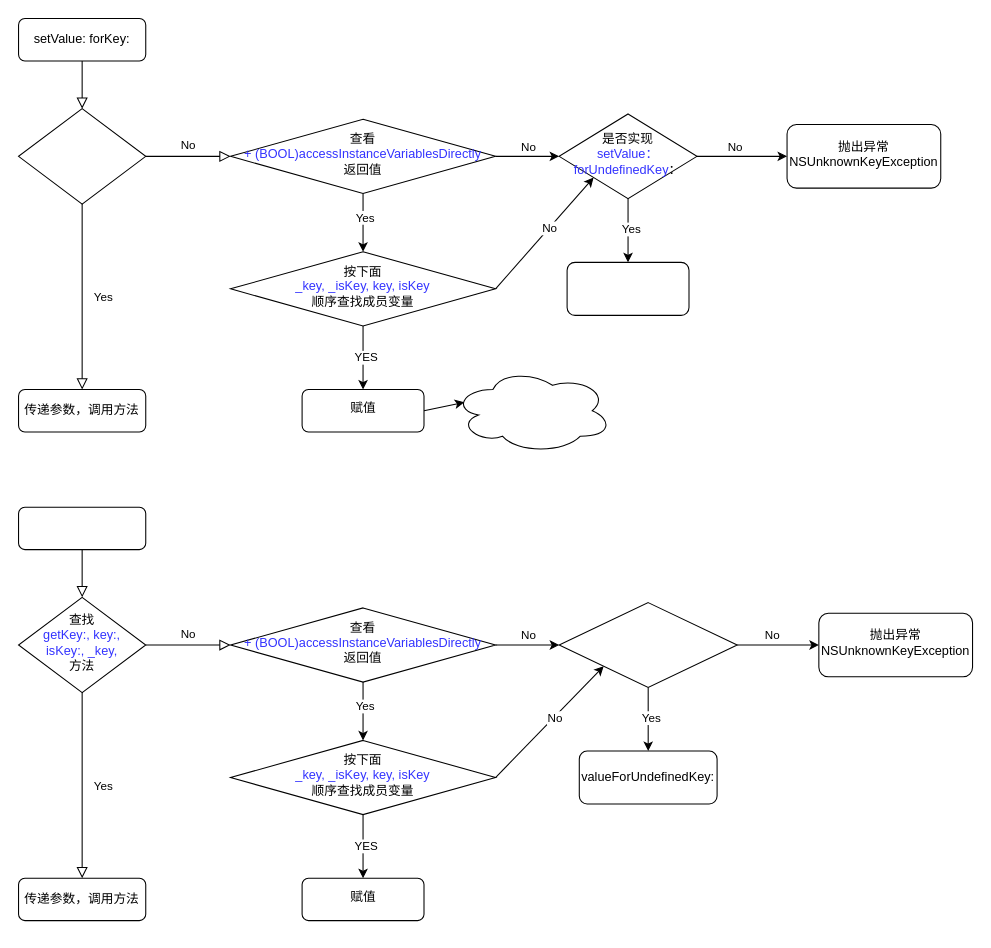
Image size: 991x948. Some labels were removed from this diagram. Here are the shapes that lost their labels. From the top down, the centre of each, then its label:
At [81,156]: "查找 setKey : _setKey : 这两个方法".
At [627,288]: "setValue：forUndefinedKey:".
At [532,410]: "同样可以触发KVO willChange.. didChange...".
At [81,528]: "valueForKey:".
At [647,644]: "是否实现 valueForUndefinedKey:".
